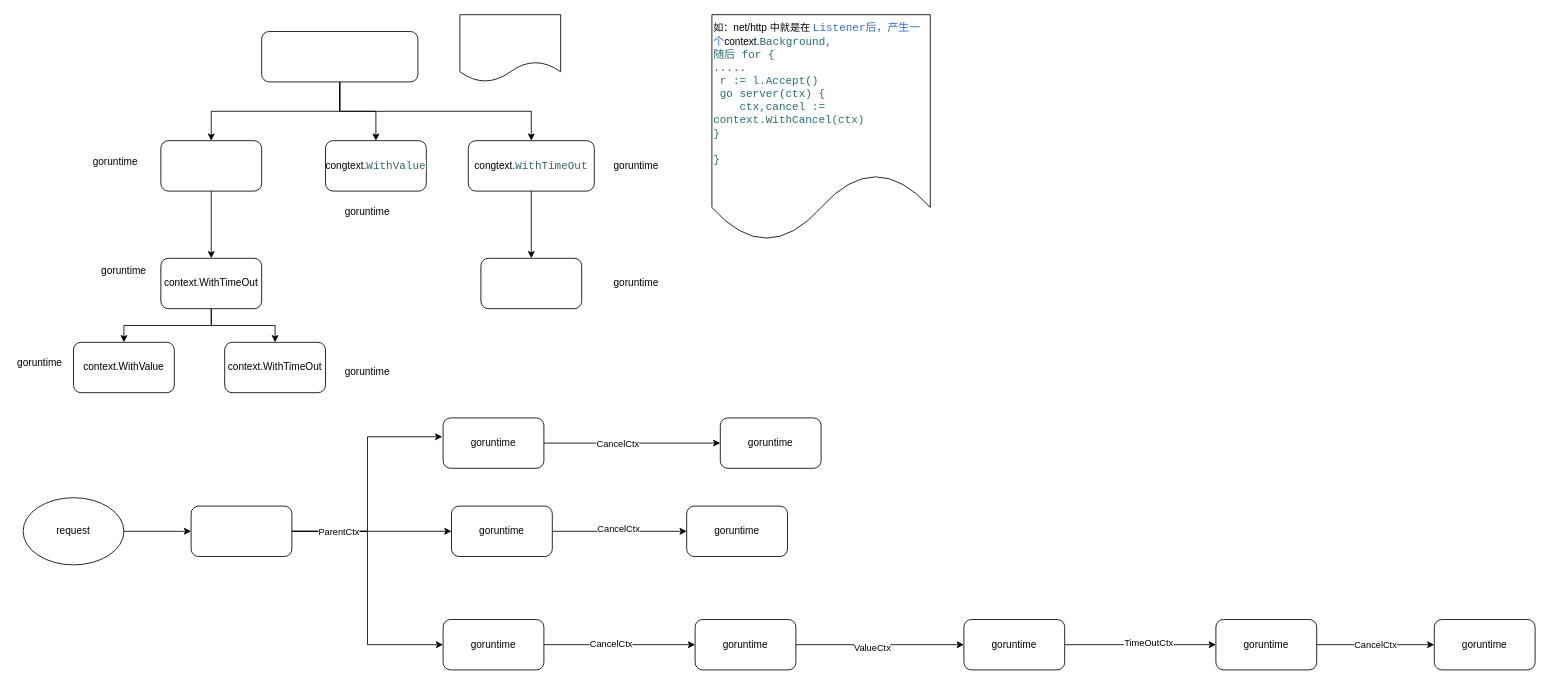
This 1550x685 diagram has some shape labels left out. Here are the shapes that lost their labels. From the top down, the centre of each, then its label:
point 339,56: context. Background
point 510,48: 起点：从这里派生不同的goruntime
point 211,165: congtext. WithCancel
point 531,283: context.WithCancel
point 241,530: goruntime parent
